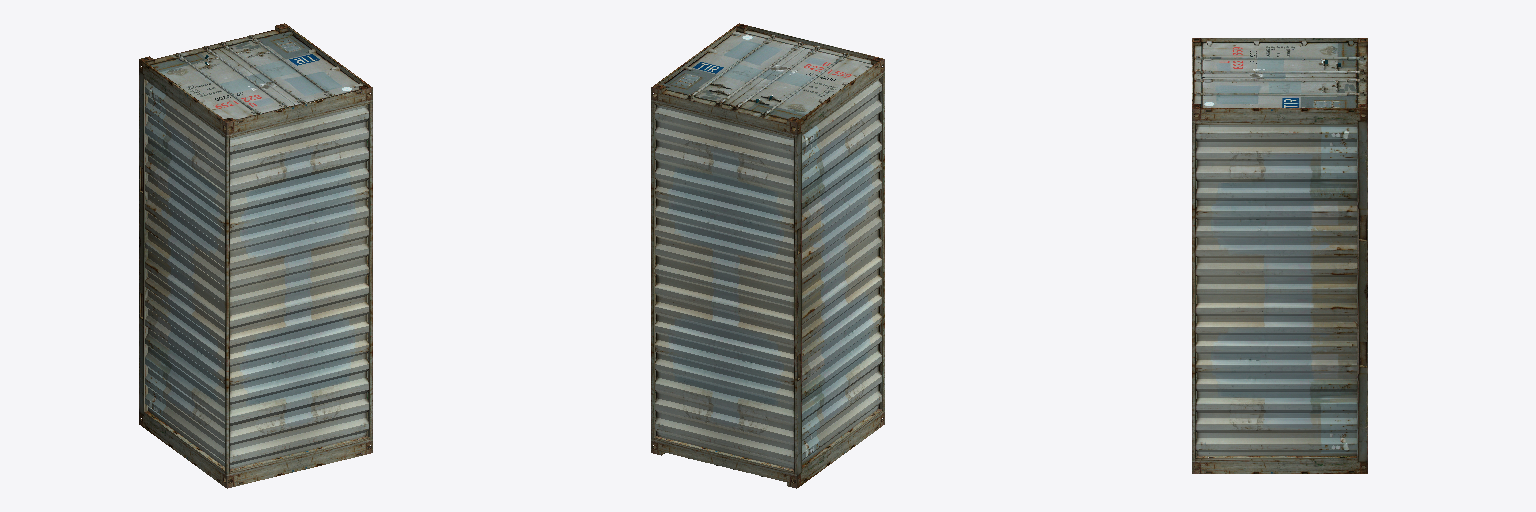
The picture shows the model from 3 angles: view 1: azimuth 30°, elevation 25°; view 2: azimuth 150°, elevation 25°; view 3: azimuth 270°, elevation 25°; orthographic projection.
Parts seen in each view (by area): view 1: Container; view 2: Container; view 3: Container.
Boxes of the visible parts, x1,y1,x2,y2 form: Container: [139, 23, 372, 488]; Container: [651, 23, 884, 488]; Container: [1192, 38, 1367, 473].
Size of the model in its own units: 325 by 780 by 338.
Materials: 1 (1 with a texture image).